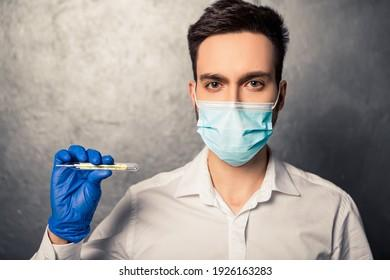gloves: (48, 145, 114, 243)
